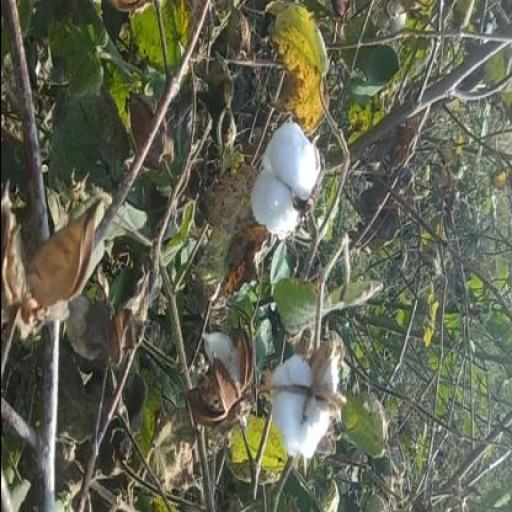cotton_ready: (251, 315, 347, 470), (245, 97, 329, 257)
